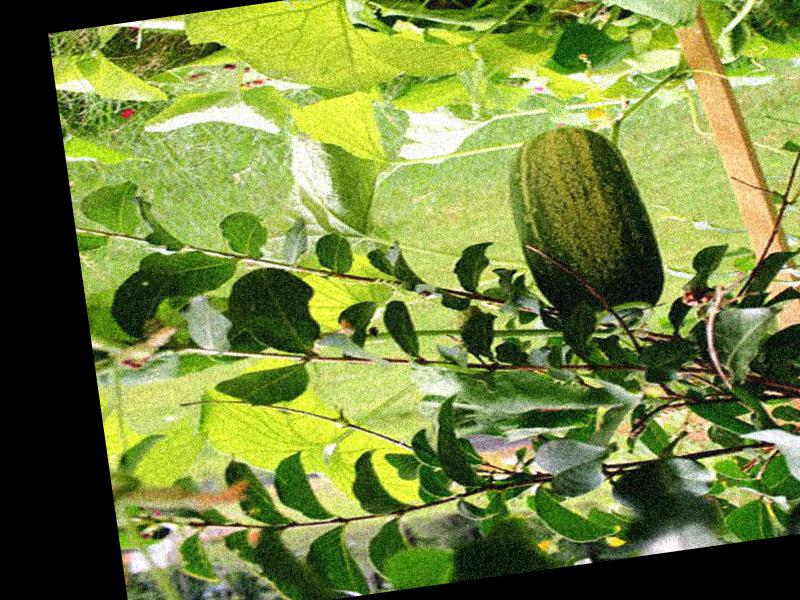Cucumber: (504, 115, 673, 345)
